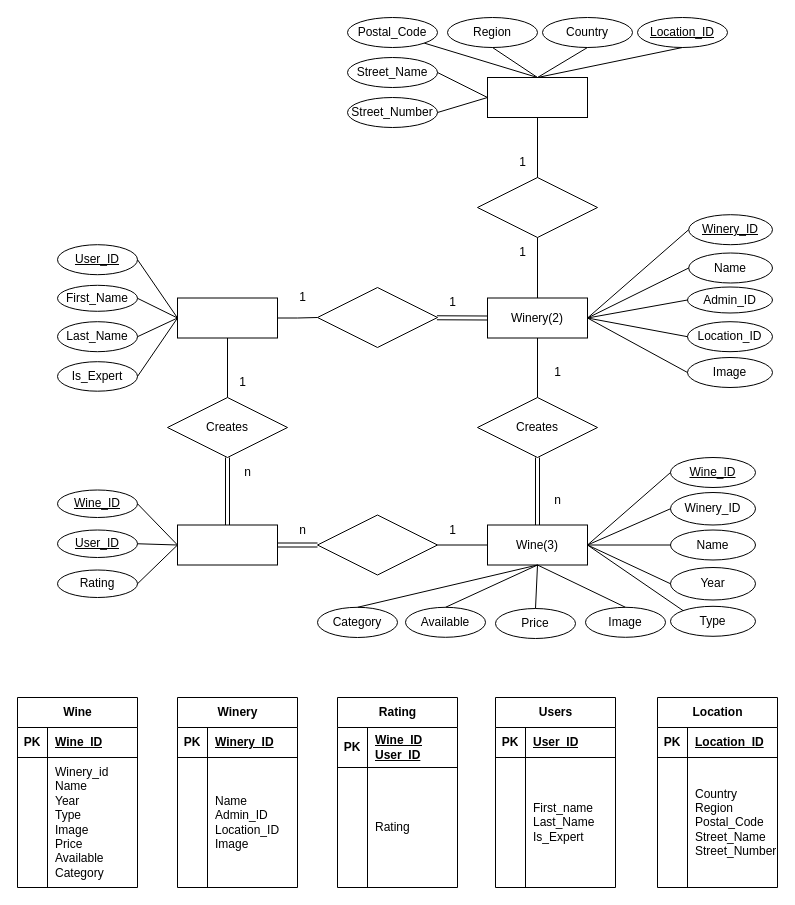
Some shapes in this 795 by 905 pixel diagram are drawn without their labels. Here are the shapes that lost their labels. From the top down, the centre of each, then its label:
At [537,97]: "Location(1)".
At [537,207]: "In a".
At [227,317]: "Users(4)".
At [377,317]: "Can Admin".
At [227,544]: "Rating(5)".
At [377,544]: "Has a".
